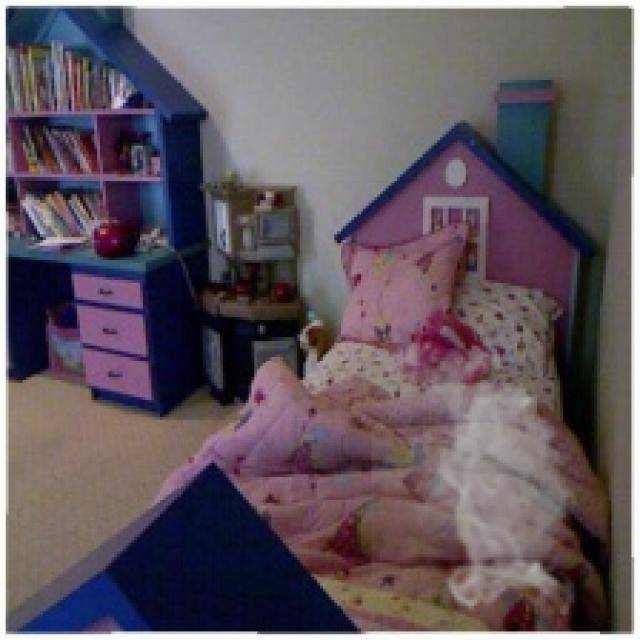Smoke: (371, 332, 586, 614)
